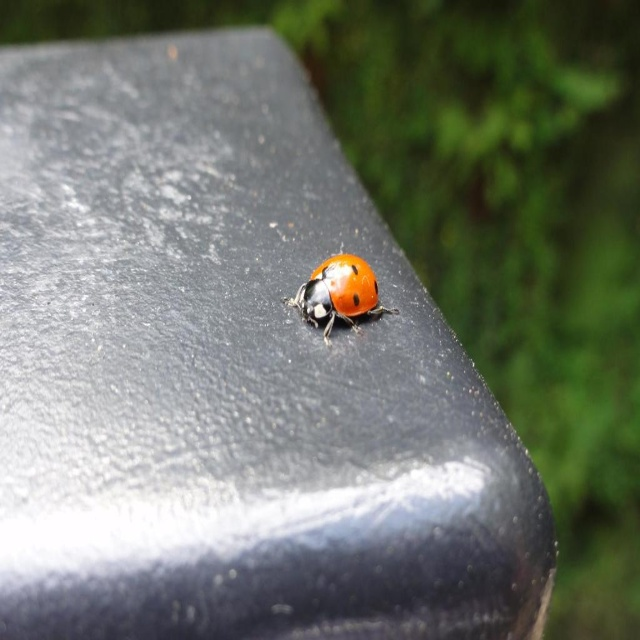Ladybug: (279, 253, 399, 342)
